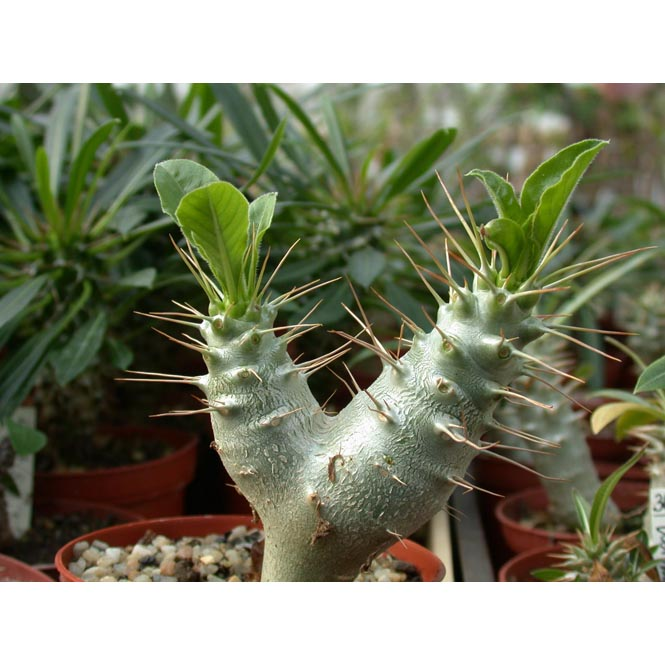Pachypodium saundersii: (133, 128, 636, 559)
